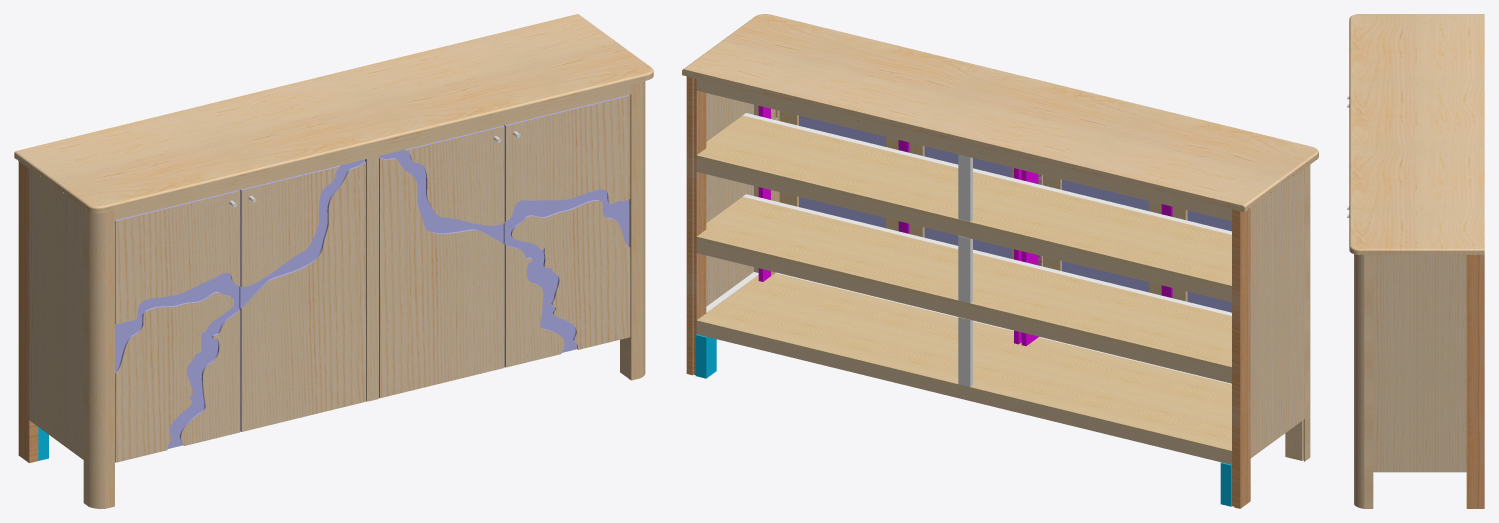
Rendered from IFD85211-mwn2mgv3.glb.
3 renders of one model, left to right at view 1: azimuth 30°, elevation 25°; view 2: azimuth 150°, elevation 25°; view 3: azimuth 270°, elevation 25°, orthographic. The views are drawn at different scales.
Parts seen in each view (by area): view 1: IFD85211-TABLERO PUERTA-2 (×4), IFD85211- CUBIERTA-1, IFD85211- TABLERO DE COSTADO-5, IFD85211- HUACAL FRONTAL-1/85211 - POSTE FRONTAL-1, IFD85211- HUACAL FRONTAL-1/IFD85211- ARMADOR FRONTAL SUPERIO, IFD85211- HUACAL FRONTAL-1/85211 - POSTE FRONTAL-3, 85211-HUACAL POSTERIOR-1/85211- POSTE POSTERIOR-1, IFD85211- HUACAL FRONTAL-1/IFD85211- PARCHE POSTE CENTRAL-1; view 2: IFD85211- CUBIERTA-1, IFD85211- PISO INFERIOR-1, IFD85211- ENTREPAÑO-2, IFD85211- ENTREPAÑO-1, 85211-HUACAL POSTERIOR-1/IFD85211- ARMADOR DE RESPALDO CENTR (×2), 85211-HUACAL POSTERIOR-1/IFD85211- ARMADOR DE RESPALDO SUP E (×2), IFD85211- TABLERO DE COSTADO-5, IFD85211-TABLERO PUERTA-2 (×4), 85211-HUACAL POSTERIOR-1/85211- POSTE POSTERIOR-1, 85211-HUACAL POSTERIOR-1/85211- POSTE POSTERIOR-2, IFD85211- TABLERO DE COSTADO-4, IFD85211- HUACAL FRONTAL-1/85211 - POSTE FRONTAL-1 (+6 smaller); view 3: IFD85211- CUBIERTA-1, IFD85211- TABLERO DE COSTADO-4, IFD85211- HUACAL FRONTAL-1/85211 - POSTE FRONTAL-3, 85211-HUACAL POSTERIOR-1/85211- POSTE POSTERIOR-2.
Boxes of the visible parts, x1,y1,x2,y2 form: IFD85211-TABLERO PUERTA-2 (×4): [115, 95, 630, 462]; IFD85211- CUBIERTA-1: [14, 14, 653, 213]; IFD85211- TABLERO DE COSTADO-5: [29, 169, 83, 459]; IFD85211- HUACAL FRONTAL-1/85211 - POSTE FRONTAL-1: [83, 209, 114, 508]; IFD85211- HUACAL FRONTAL-1/IFD85211- ARMADOR FRONTAL SUPERIO: [115, 84, 631, 220]; IFD85211- HUACAL FRONTAL-1/85211 - POSTE FRONTAL-3: [620, 81, 645, 380]; 85211-HUACAL POSTERIOR-1/85211- POSTE POSTERIOR-1: [18, 161, 38, 463]; IFD85211- HUACAL FRONTAL-1/IFD85211- PARCHE POSTE CENTRAL-1: [365, 156, 378, 401]; IFD85211- CUBIERTA-1: [682, 14, 1318, 212]; IFD85211- PISO INFERIOR-1: [696, 273, 1231, 452]; IFD85211- ENTREPAÑO-2: [696, 115, 1231, 289]; IFD85211- ENTREPAÑO-1: [696, 196, 1231, 370]; 85211-HUACAL POSTERIOR-1/IFD85211- ARMADOR DE RESPALDO CENTR (×2): [696, 159, 1231, 383]; 85211-HUACAL POSTERIOR-1/IFD85211- ARMADOR DE RESPALDO SUP E (×2): [696, 79, 1231, 464]; IFD85211- TABLERO DE COSTADO-5: [1250, 168, 1304, 458]; IFD85211-TABLERO PUERTA-2 (×4): [799, 115, 1231, 312]; 85211-HUACAL POSTERIOR-1/85211- POSTE POSTERIOR-1: [1232, 208, 1250, 508]; 85211-HUACAL POSTERIOR-1/85211- POSTE POSTERIOR-2: [686, 76, 706, 375]; IFD85211- TABLERO DE COSTADO-4: [706, 93, 753, 306]; IFD85211- HUACAL FRONTAL-1/85211 - POSTE FRONTAL-1: [1285, 165, 1310, 461]; IFD85211- CUBIERTA-1: [1349, 14, 1484, 254]; IFD85211- TABLERO DE COSTADO-4: [1373, 253, 1466, 472]; IFD85211- HUACAL FRONTAL-1/85211 - POSTE FRONTAL-3: [1354, 253, 1373, 508]; 85211-HUACAL POSTERIOR-1/85211- POSTE POSTERIOR-2: [1466, 253, 1484, 508].
Size of the model in its own units: 1.86 by 0.96 by 0.457.
16 materials, 7 textured.
